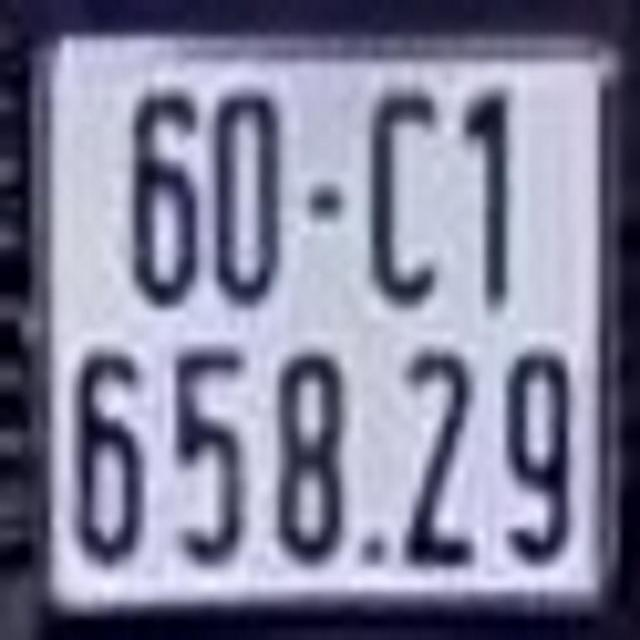0: (216, 94, 282, 302)
1: (466, 92, 513, 303)
2: (402, 348, 478, 572)
5: (172, 346, 250, 560)
6: (72, 346, 146, 567), (130, 97, 203, 304)
8: (276, 354, 347, 560)
9: (504, 352, 574, 563)
C: (369, 91, 449, 304)
